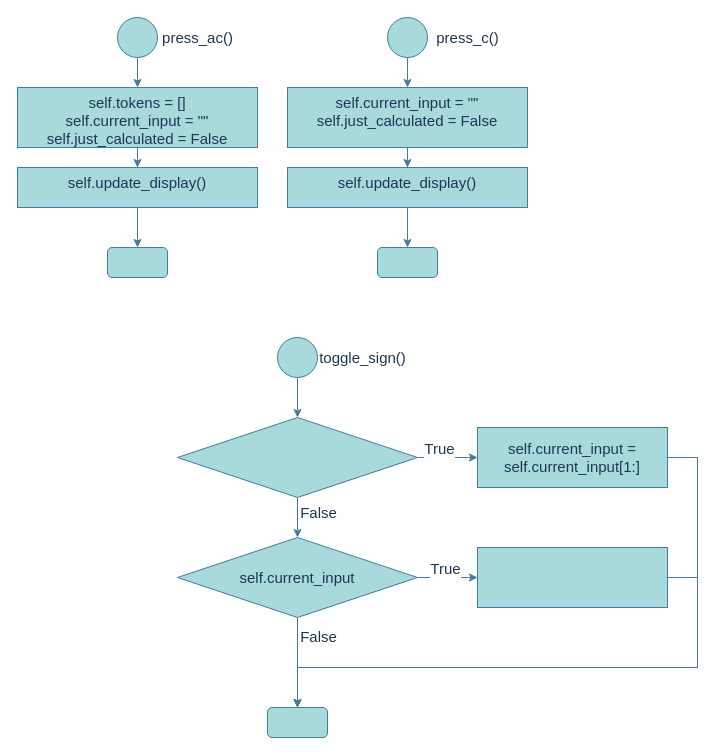
Image size: 723x755. Some labels were removed from this diagram. The centre of each missing label's shape, as x and y in pixels:
self.current_input = "-" + self.current_input: the point at 572,577
self.current_input.startswith("-"): the point at 297,457
